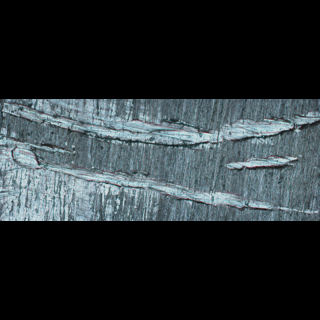d: (0, 128, 318, 219), (0, 99, 319, 149), (221, 151, 300, 174)
